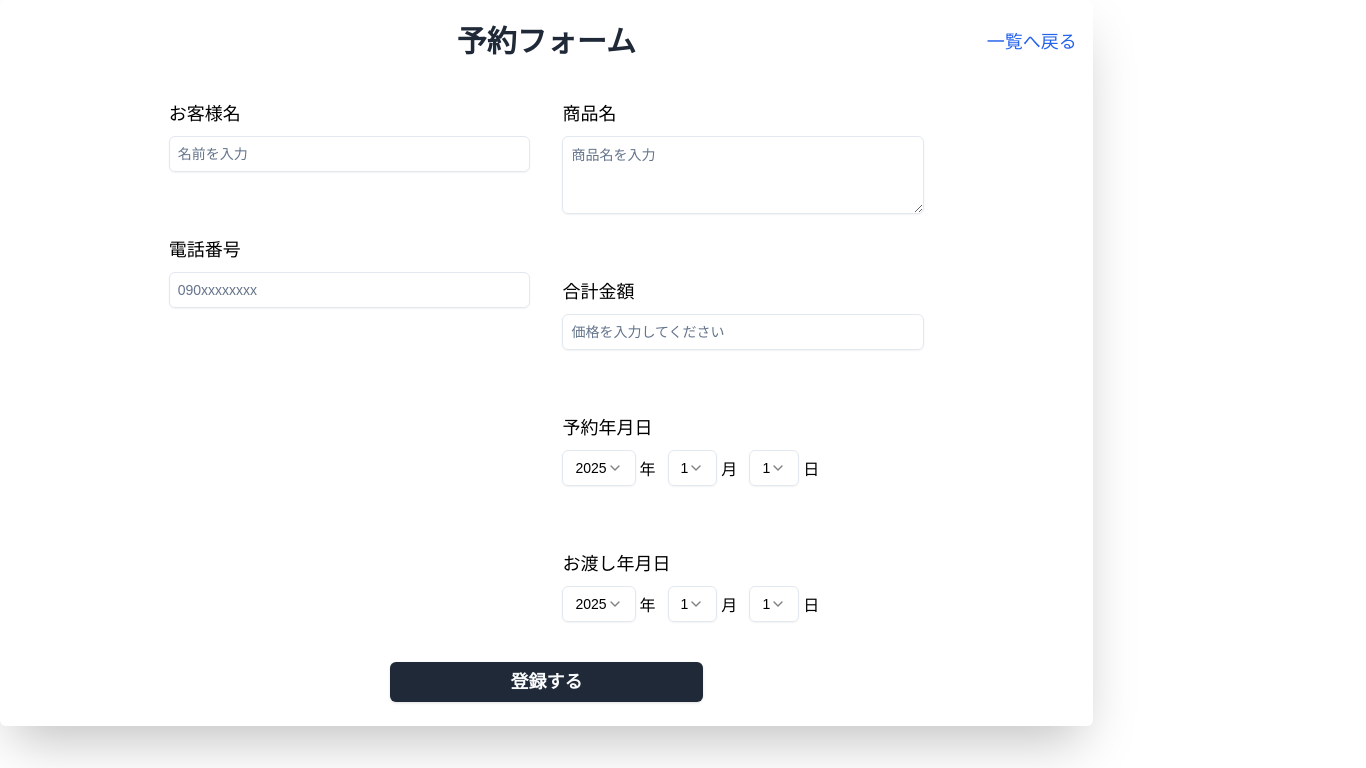
Test case: CreateForm › 未入力のまま送信するとエラーメッセージが表示される
Click the button "登録する" at (546, 682), box [390,662,703,702]
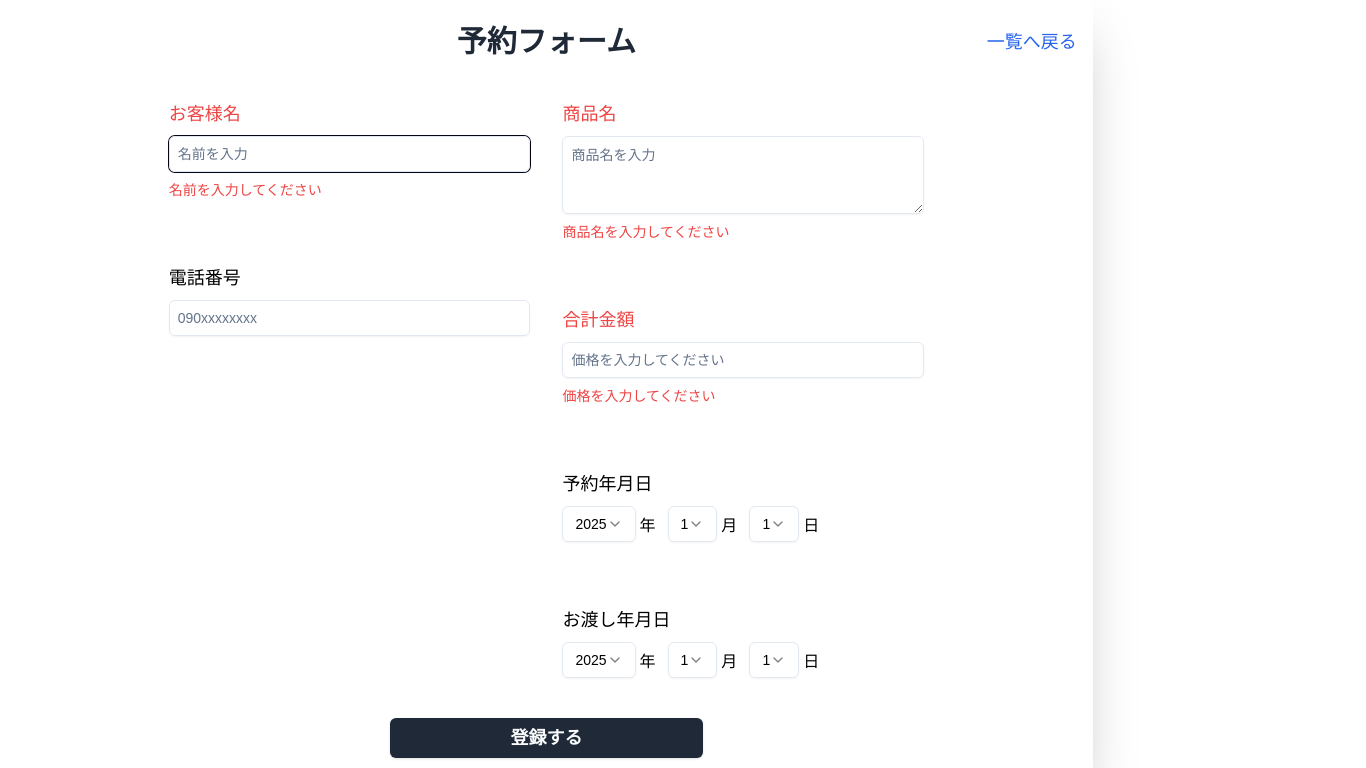
Expected: the text "名前を入力してください" is shown, [169,182,322,198]
Expected: the text "商品名を入力してください" is shown, [562,224,730,240]
Expected: the text "価格を入力してください" is shown, [562,388,716,404]
